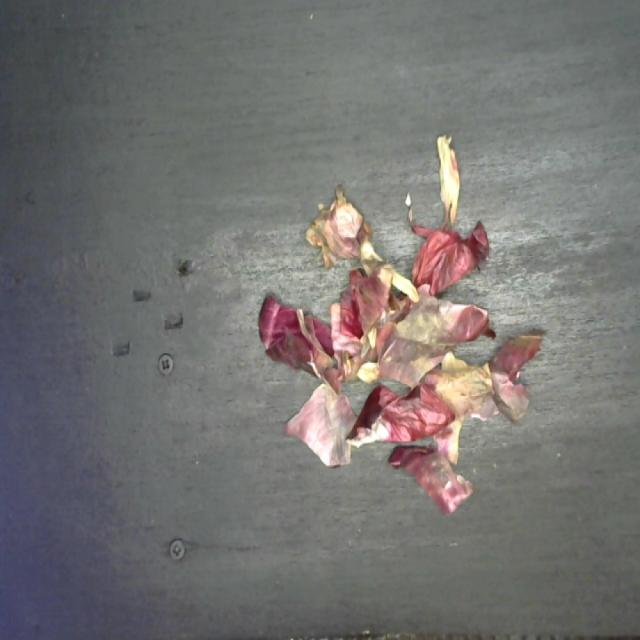biodegradable: (255, 128, 542, 512)
